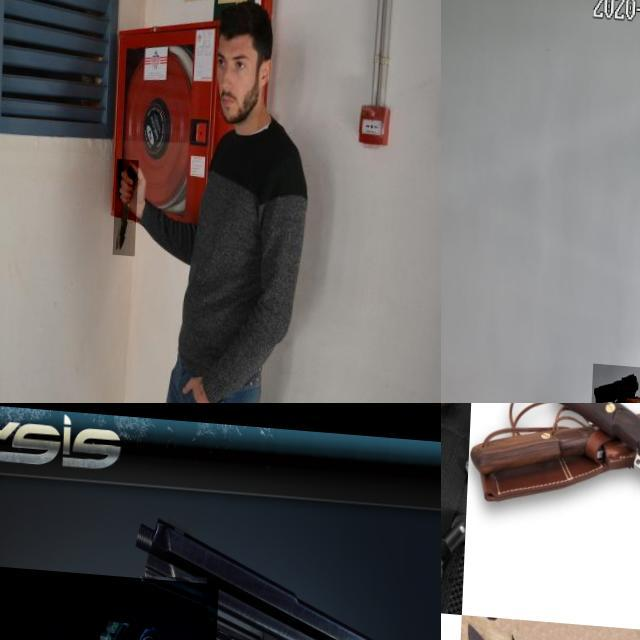-: (441, 403, 552, 591), (116, 153, 142, 251)
gun-knife-thesis - v11 Yolov5 augmented: (126, 505, 430, 640), (0, 555, 220, 640), (593, 355, 640, 403)
